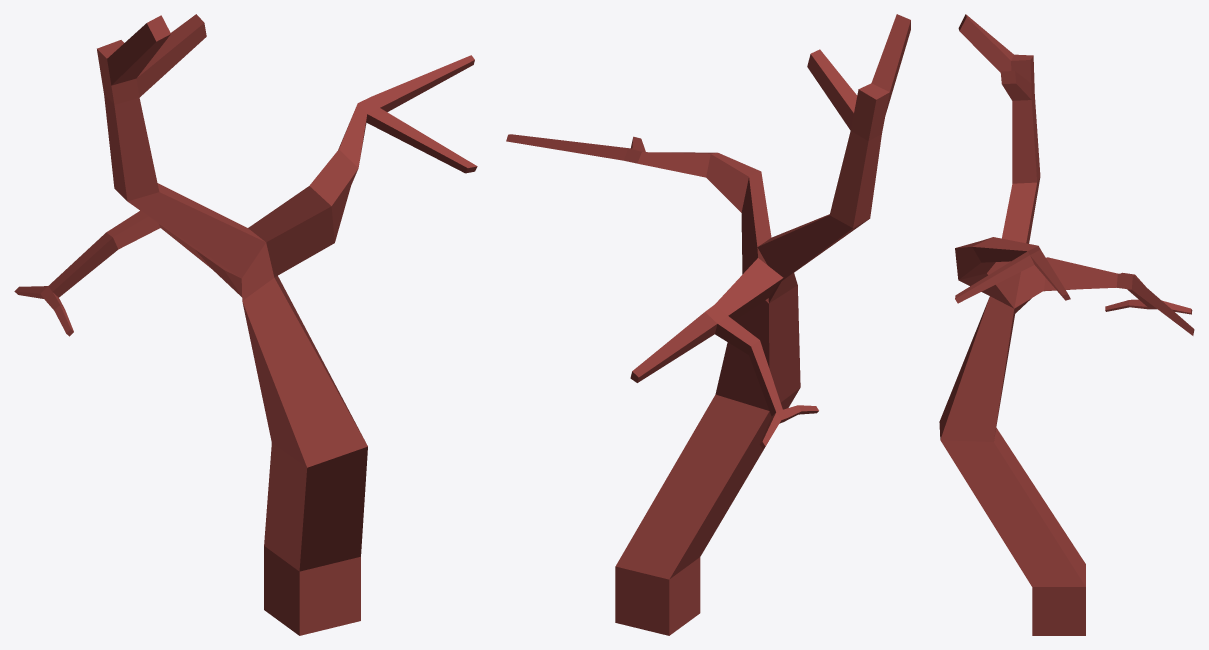
File: DeadTree.obj
3 renders of one model, left to right at view 1: azimuth 30°, elevation 25°; view 2: azimuth 150°, elevation 25°; view 3: azimuth 270°, elevation 25°, orthographic. The views are drawn at different scales.
Parts seen in each view (by area): view 1: BareTree_Cube.005; view 2: BareTree_Cube.005; view 3: BareTree_Cube.005.
Boxes of the visible parts, x1,y1,x2,y2 form: BareTree_Cube.005: (14,14,477,635); BareTree_Cube.005: (506,14,910,635); BareTree_Cube.005: (939,14,1194,635).
Size of the model in its own units: 3.37 by 5.6 by 2.45.
